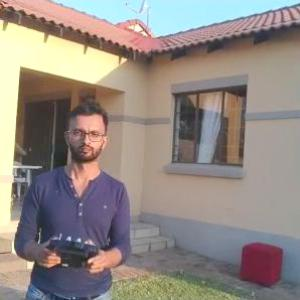follow: (9, 96, 133, 299)
